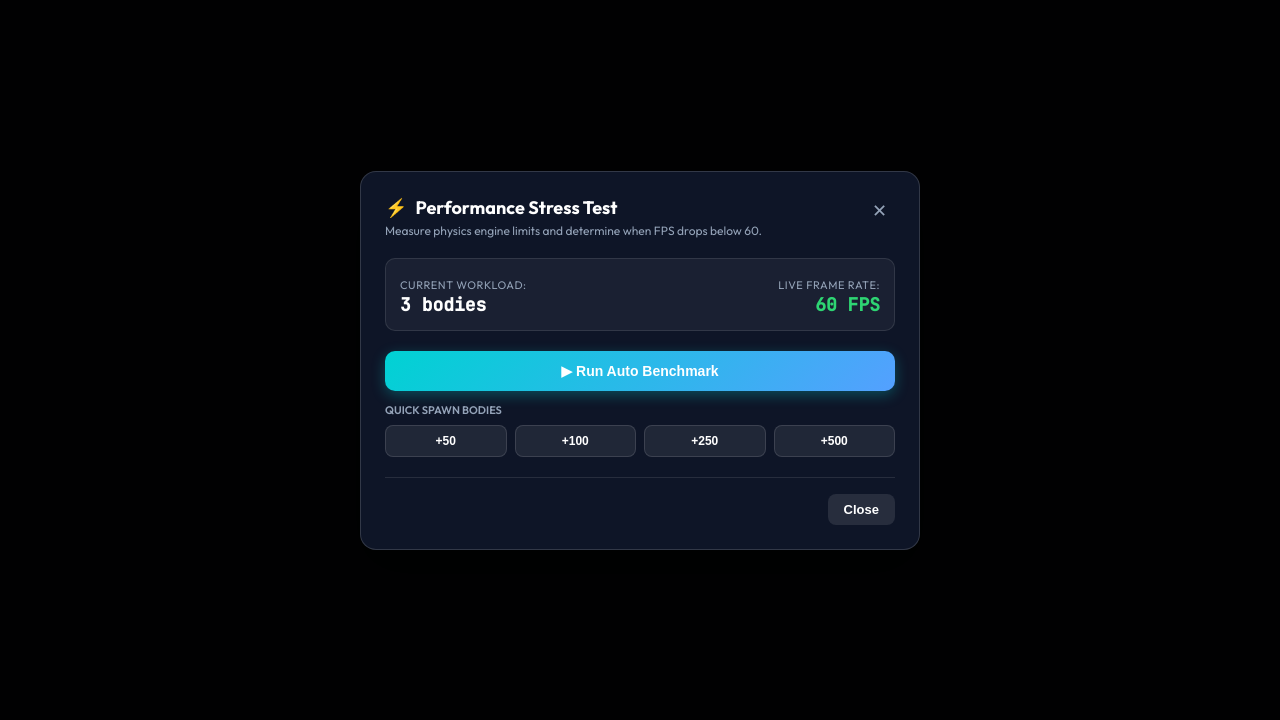
Test case: StressTestModal component › allows stopping an active benchmark
Click the button "▶ Run Auto Benchmark".
click(640, 370)  # box [385, 350, 895, 390]
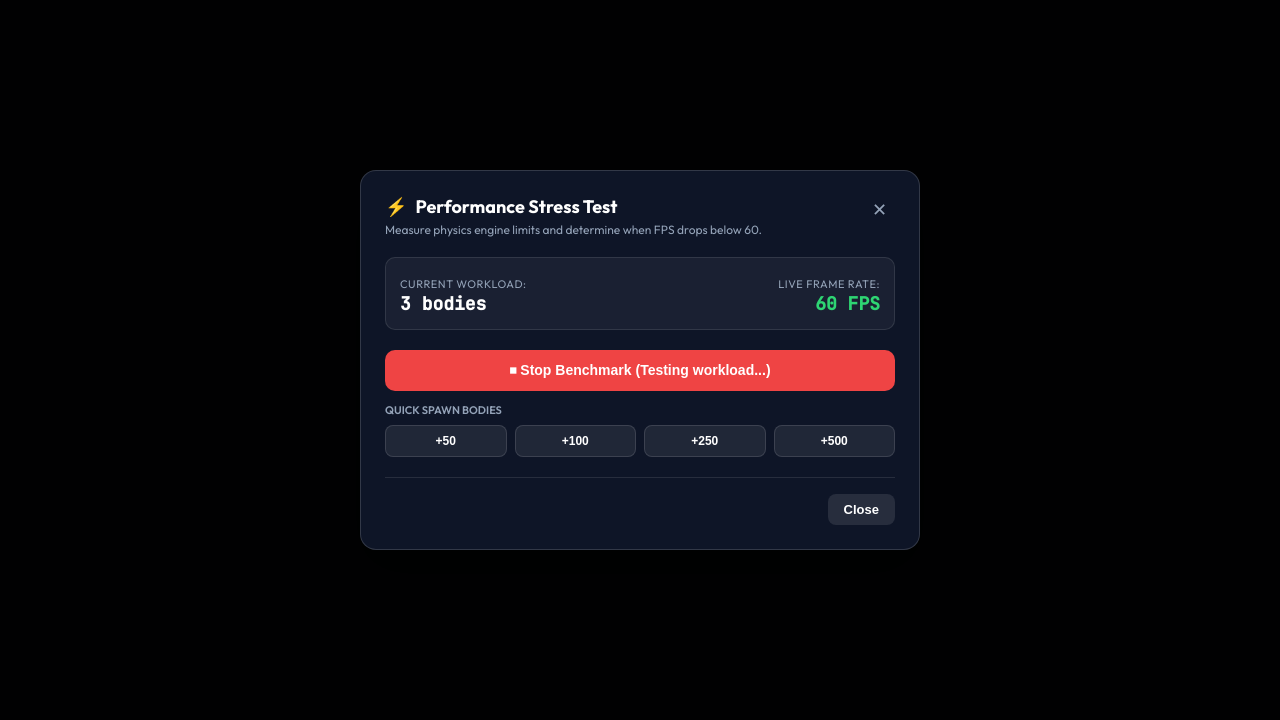
Result: the button "⏹ Stop Benchmark (Testing workload...)" is shown
Click the button "⏹ Stop Benchmark (Testing workload...)".
click(640, 370)  # box [385, 350, 895, 391]
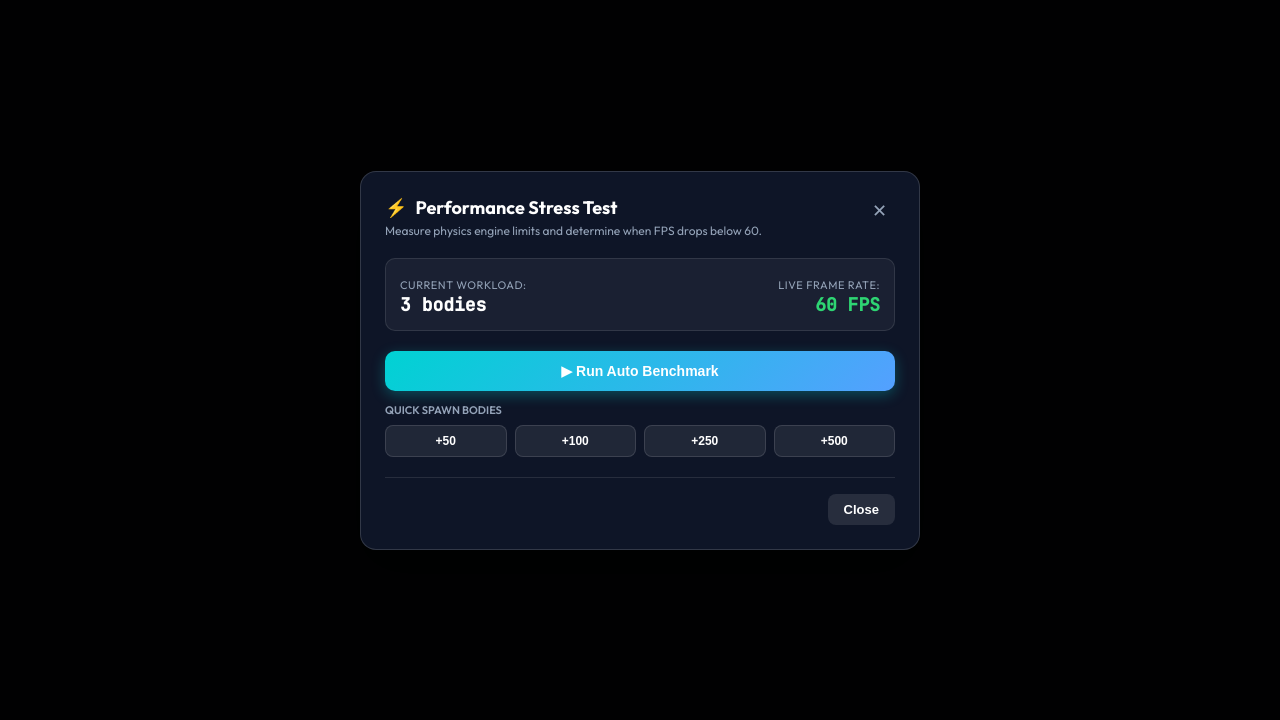
Result: the button "▶ Run Auto Benchmark" is shown at [385, 350, 895, 390]
